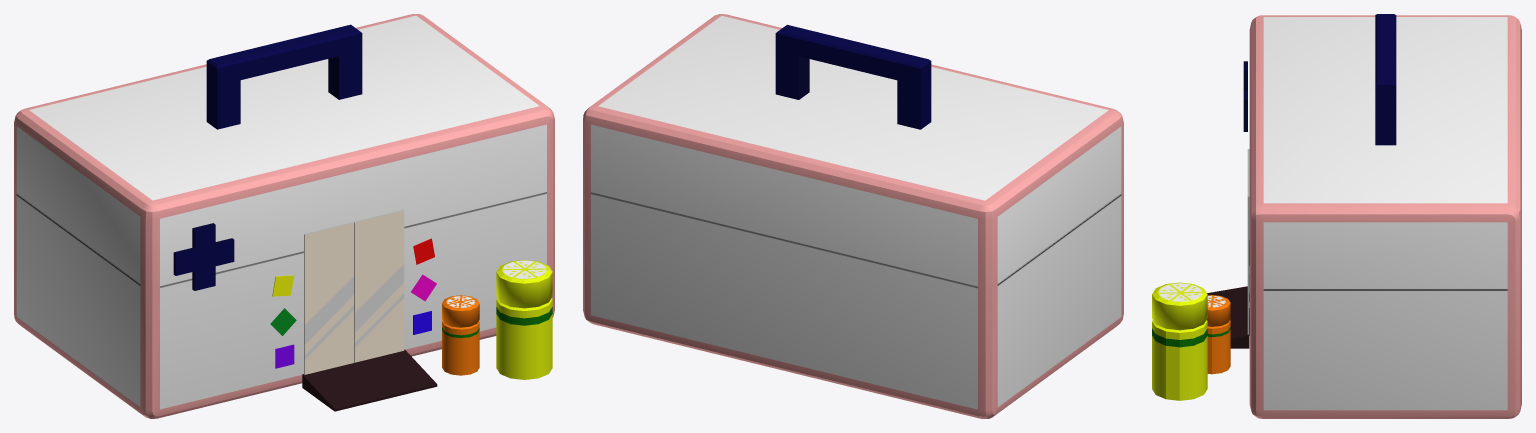
Rendered from medical_mapping.FBX.
3 views of the same model, side by side, from view 1: azimuth 30°, elevation 25°; view 2: azimuth 150°, elevation 25°; view 3: azimuth 270°, elevation 25° (orthographic).
Parts seen in each view (by area): view 1: Box001; view 2: Box001; view 3: Box001.
Boxes of the visible parts, bbox=[...] form: Box001: bbox=[14, 14, 554, 418]; Box001: bbox=[583, 14, 1123, 418]; Box001: bbox=[1152, 14, 1521, 418].
Size of the model in its own units: 111 by 71.99 by 87.42.
